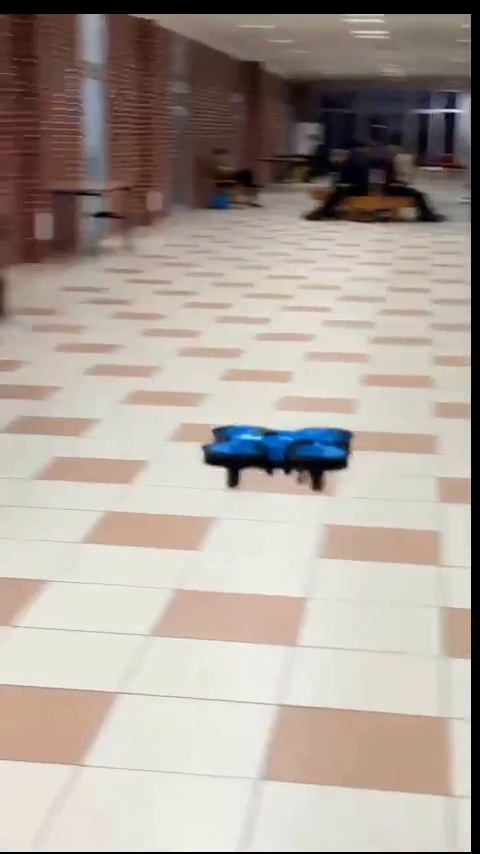drone: (205, 425, 353, 494)
